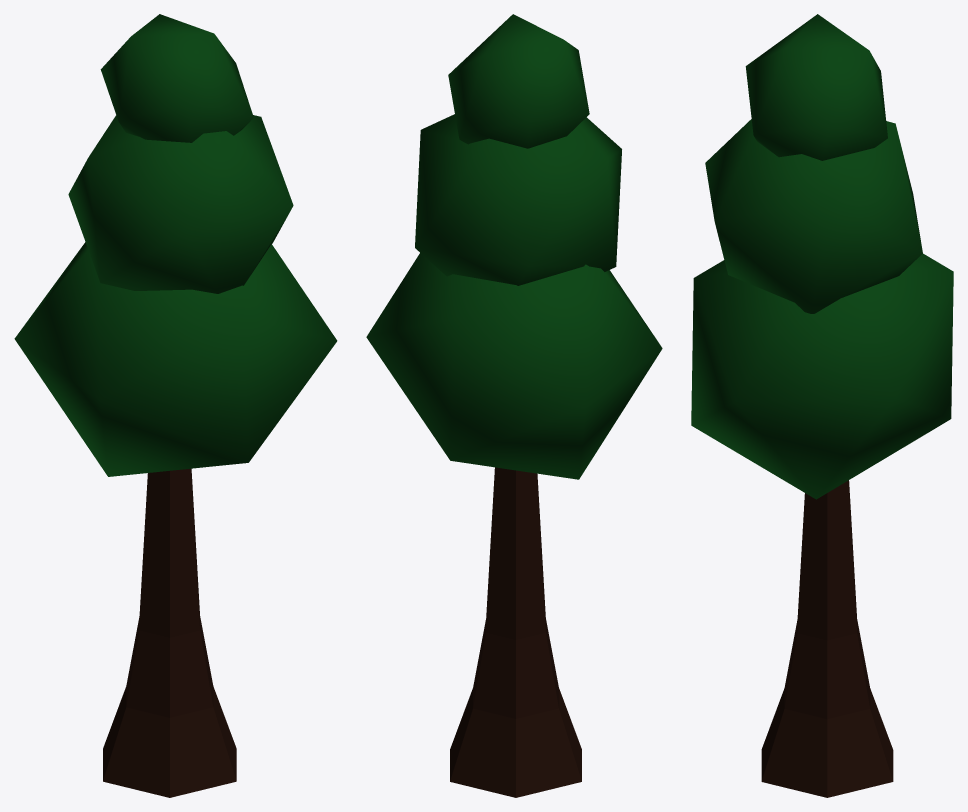
Rendered from Agac4.FBX.
3 views of the same model, side by side, from view 1: azimuth 30°, elevation 25°; view 2: azimuth 150°, elevation 25°; view 3: azimuth 270°, elevation 25° (orthographic).
Parts seen in each view (by area): view 1: GeoSphere001, GeoSphere002, Cylinder001, GeoSphere003; view 2: GeoSphere001, GeoSphere002, Cylinder001, GeoSphere003; view 3: GeoSphere001, GeoSphere002, Cylinder001, GeoSphere003.
Part boxes in pixels (x1,y1,x2,y2): GeoSphere001: [14, 242, 337, 476]; GeoSphere002: [68, 115, 293, 293]; Cylinder001: [103, 468, 236, 797]; GeoSphere003: [100, 14, 253, 142]; GeoSphere001: [366, 253, 662, 479]; GeoSphere002: [415, 114, 621, 285]; Cylinder001: [450, 467, 581, 797]; GeoSphere003: [448, 14, 589, 148]; GeoSphere001: [691, 253, 953, 499]; GeoSphere002: [705, 119, 922, 313]; Cylinder001: [761, 480, 893, 797]; GeoSphere003: [745, 14, 887, 160].
Bounding box in the file's own units: 19.73 × 59.89 × 19.49.
